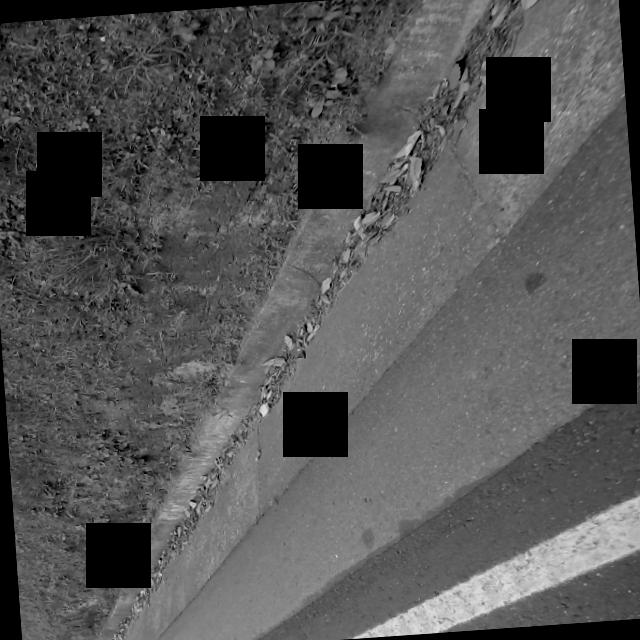DITCH: (1, 0, 640, 640), (5, 0, 640, 640), (50, 0, 640, 640)
